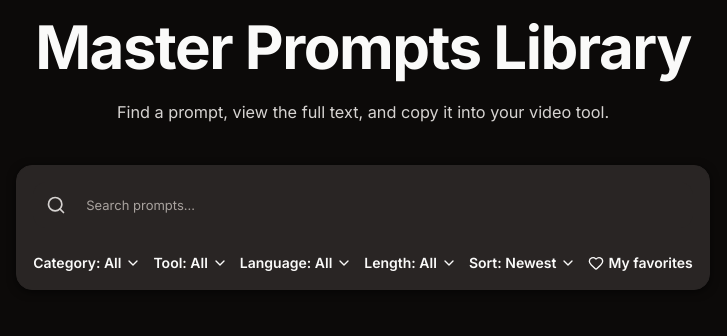
Scenario: PromptTopSection (step 1, filter row) › closes an open dropdown when clicking outside it, including on the search input
The image size is (727, 336).
Click the button "Category: All".
click(87, 263)  # box [33,253,142,273]
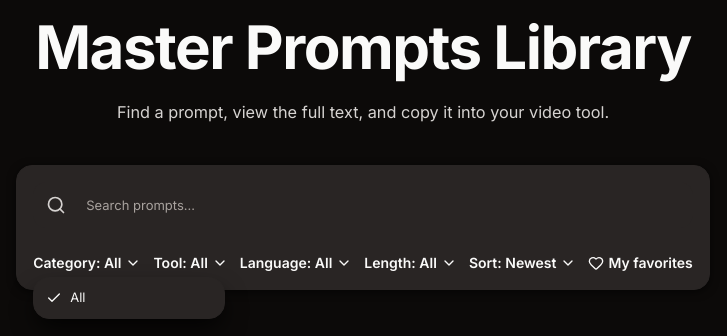
Expected: the list with test id "prompt-top-section-filter-category-options" is shown, [33,277,225,319]
// Clicking the heading — outside the open filter's trigger + dropdown.
Press the mouse on the heading "Master Prompts Library" at (363, 48), box [35,16,691,79]
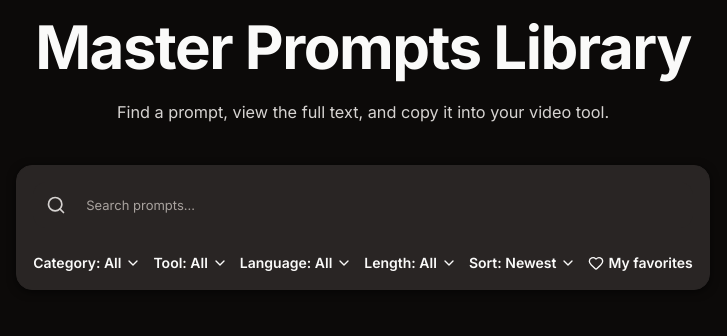
Expected: the list with test id "prompt-top-section-filter-category-options" is gone
// Same for the search input, which is also outside the filter.
Click the button "Tool: All".
click(191, 263)  # box [154,253,228,273]
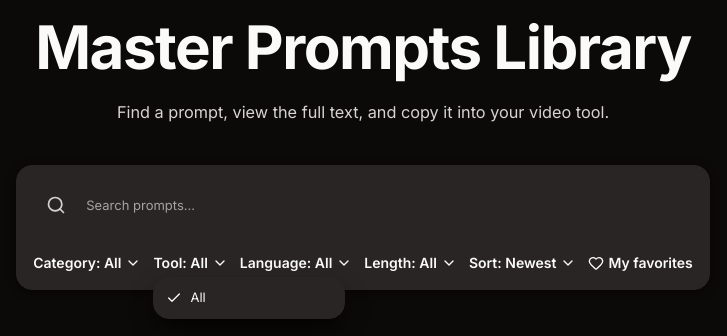
Expected: the list with test id "prompt-top-section-filter-tool-options" is shown, [154,277,346,319]
Press the mouse on the search field with placeholder "Search prompts…" at (377, 205), box [74,187,680,223]
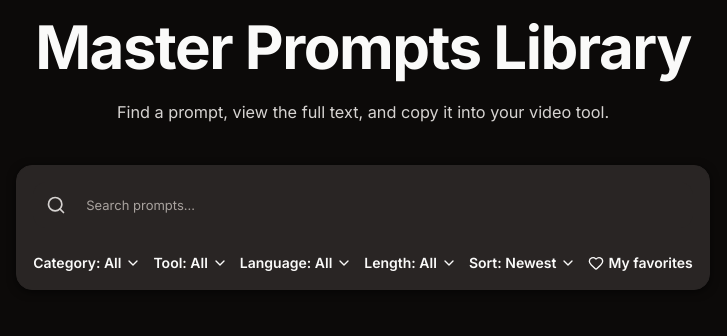
Expected: the list with test id "prompt-top-section-filter-tool-options" is gone
